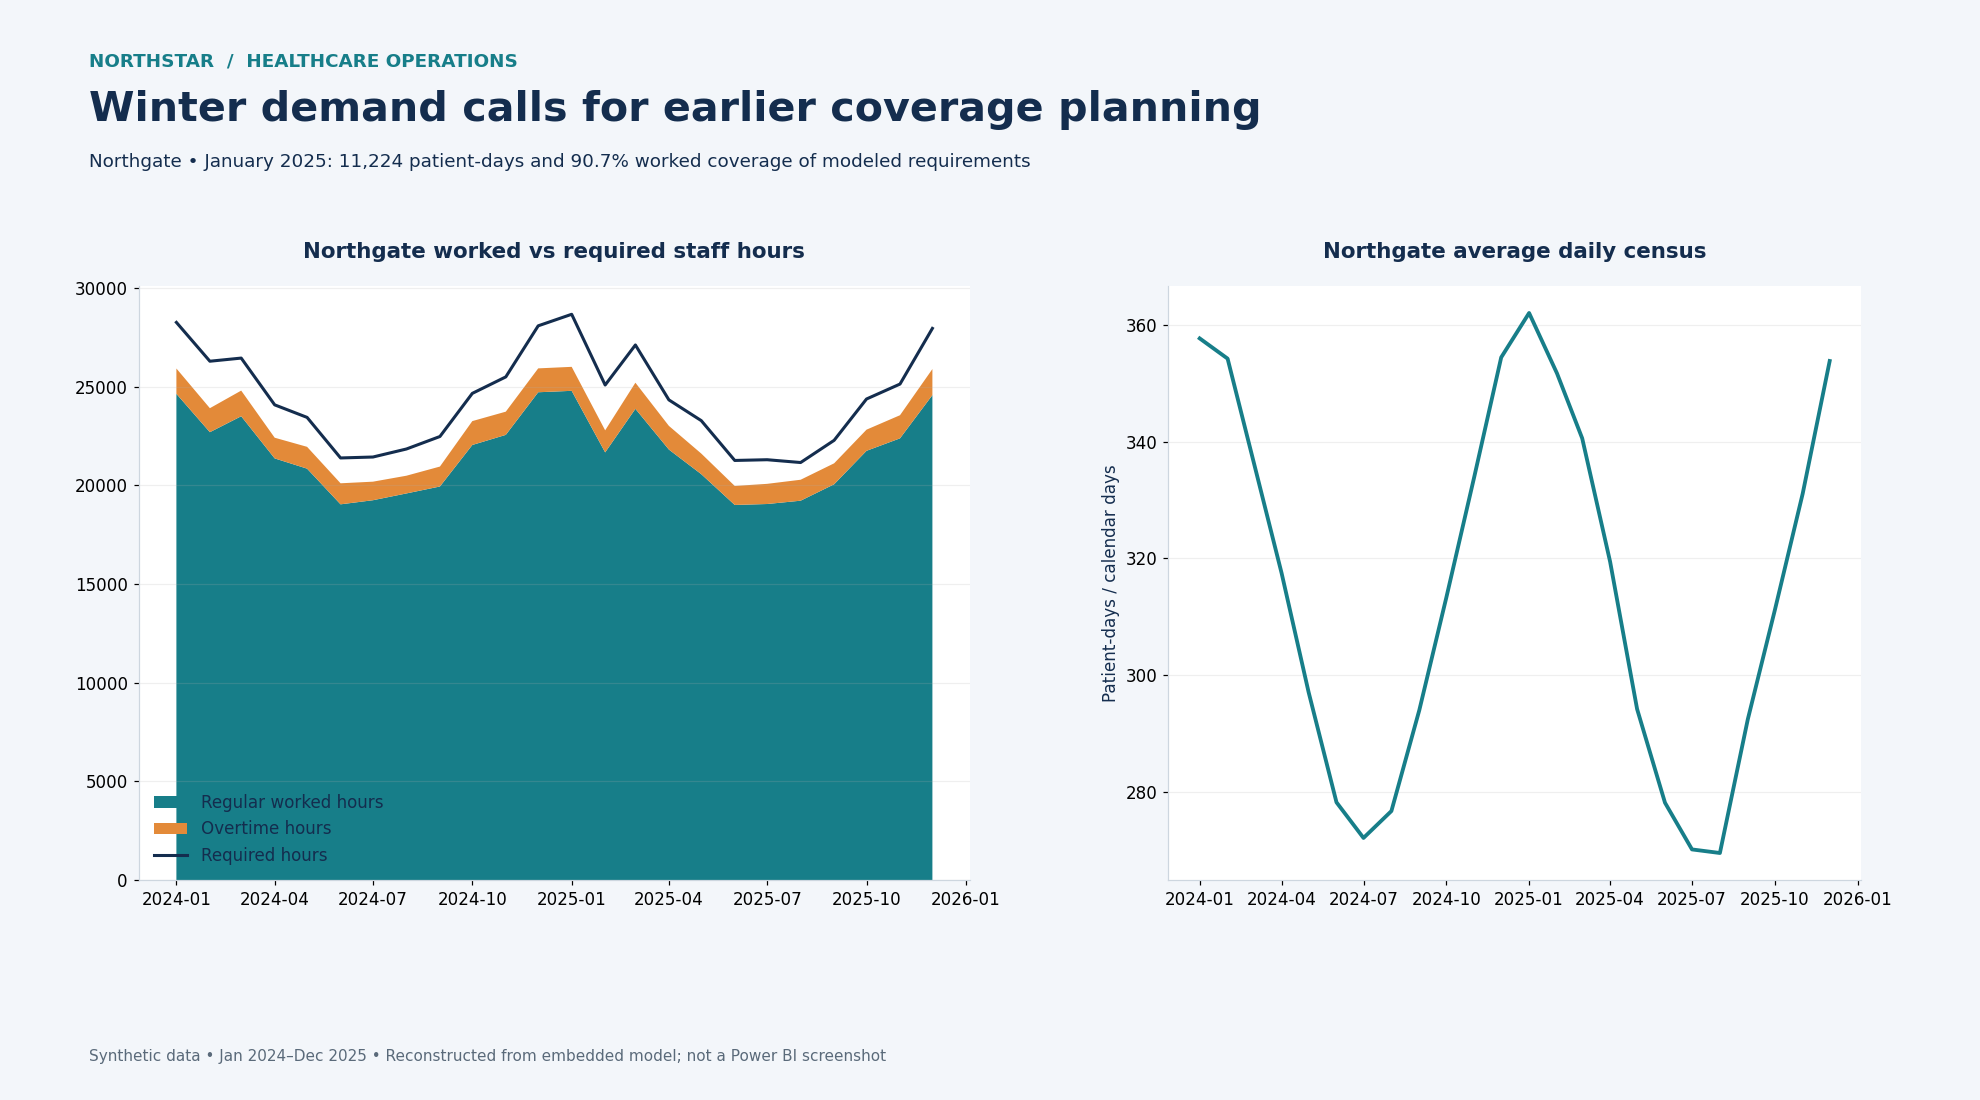

The dashboard page shown, as its layout file describes it:
{"tool":"powerbi","page":{"name":"Patient Demand and Coverage","canvas":[1920,1080],"ordinal":2},"visuals":[{"type":"cardVisual","fields":{"Data":["fact_patient_demand_daily.Patient Days"]},"box":[17.5,64.3,225.2,232.5],"z":0},{"type":"cardVisual","fields":{"Data":["fact_shift_coverage.Required Staff Hours"]},"box":[270.5,64.3,225.2,232.5],"z":1000},{"type":"cardVisual","fields":{"Data":["fact_shift_coverage.Coverage %"]},"box":[522,64.3,244.2,232.5],"z":2000},{"type":"textbox","box":[47.7,21.3,735.9,28.9],"z":3000},{"type":"lineStackedColumnComboChart","title":"Worked Hours by Type vs Staffing Requirement.","fields":{"Category":["dim_date.Month Start"],"Y":["fact_shift_coverage.Regular Worked Hours","fact_shift_coverage.Overtime Hours"],"Y2":["fact_shift_coverage.Required Staff Hours"]},"box":[17.5,317.3,893.5,675.6],"z":4000},{"type":"lineChart","title":"Average Daily Patient Census by Month.","fields":{"Category":["dim_date.Month Start"],"Y":["fact_patient_demand_daily.Average Daily Census"]},"box":[988.5,317.3,893,676],"z":5000},{"type":"slicer","title":"Facility ","fields":{"Values":["dim_facility.facility_name"]},"box":[788.2,128.7,172.6,92.1],"z":5001},{"type":"textbox","box":[988.5,46.8,893.5,229.6],"z":5002},{"type":"textbox","box":[0,1014.7,1920.1,50.2],"z":5003}]}

Visuals, with their boxes in screenshot pixels (x1, y1, x2, y2), scaled from the page's 1920x1080 canvas onto the 1980x1100 screenshot:
cardVisual - fact_patient_demand_daily.Patient Days: bbox(18, 65, 250, 302)
cardVisual - fact_shift_coverage.Required Staff Hours: bbox(279, 65, 511, 302)
cardVisual - fact_shift_coverage.Coverage %: bbox(538, 65, 790, 302)
textbox: bbox(49, 22, 808, 51)
"Worked Hours by Type vs Staffing Requirement." lineStackedColumnComboChart: bbox(18, 323, 939, 1011)
"Average Daily Patient Census by Month." lineChart: bbox(1019, 323, 1940, 1012)
"Facility " slicer: bbox(813, 131, 991, 225)
textbox: bbox(1019, 48, 1941, 282)
textbox: bbox(0, 1033, 1979, 1085)
